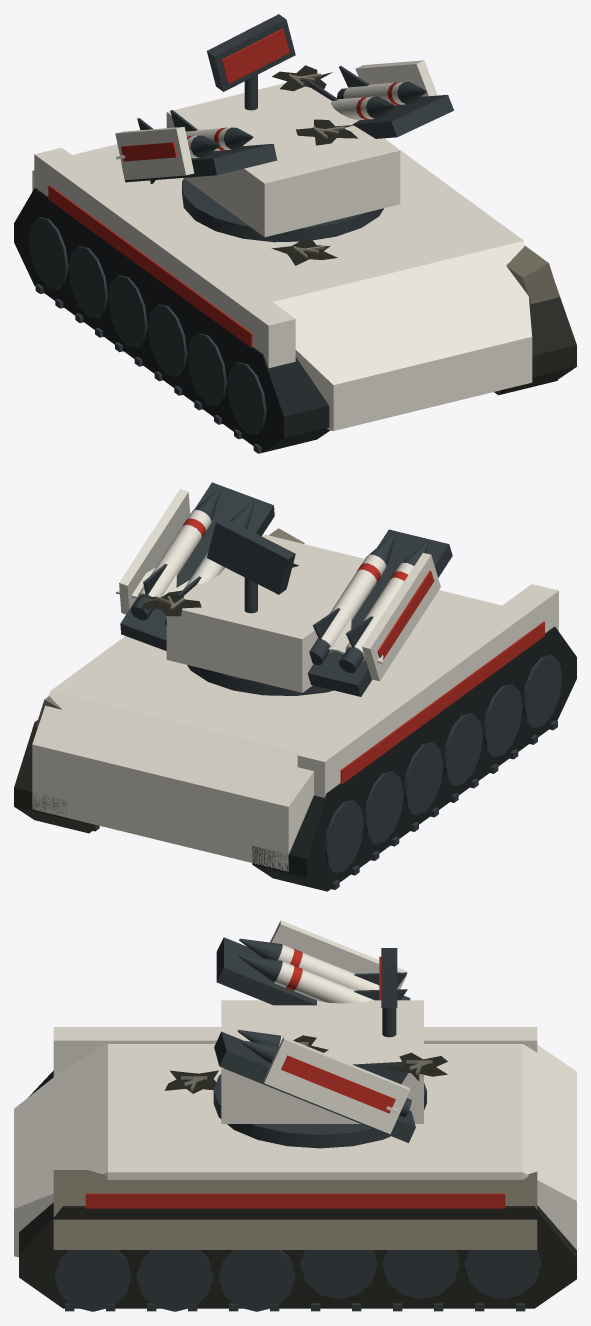
The picture shows the model from 3 angles, top to bottom: view 1: azimuth 30°, elevation 25°; view 2: azimuth 150°, elevation 25°; view 3: azimuth 270°, elevation 25°; orthographic projection. The views are drawn at different scales.
Parts seen in each view (by area): view 1: aa-tank-damaged-fleet-armor, turret-fleet-armor, aa-tank-damaged-fleet-machine, aa-tank-damaged-fleet-rubber, aa-tank-damaged-fleet-damage-charred, aa-tank-damaged-fleet-red, launcher-left-fleet-armor, aa-tank-damaged-fleet-damage-metal, launcher-right-fleet-machine, radar-fleet-machine, launcher-left-fleet-machine, radar-fleet-red (+8 smaller); view 2: aa-tank-damaged-fleet-armor, turret-fleet-armor, aa-tank-damaged-fleet-machine, aa-tank-damaged-fleet-rubber, launcher-left-fleet-machine, launcher-right-fleet-machine, radar-fleet-machine, aa-tank-damaged-fleet-red, launcher-left-fleet-armor, aa-tank-damaged-fleet-damage-charred, launcher-right-fleet-armor, loaded-missile-1-0.2-fleet-armor (+8 smaller); view 3: aa-tank-damaged-fleet-armor, aa-tank-damaged-fleet-machine, aa-tank-damaged-fleet-damage-metal, aa-tank-damaged-fleet-damage-charred, turret-fleet-armor, aa-tank-damaged-fleet-red, launcher-right-fleet-armor, launcher-left-fleet-machine, launcher-left-fleet-armor, launcher-right-fleet-machine, launcher-right-fleet-red, loaded-missile--1-0.2-fleet-armor (+6 smaller).
Part boxes in pixels (x1=…): aa-tank-damaged-fleet-armor: x1=32, y1=138, x2=532, y2=430; turret-fleet-armor: x1=166, y1=83, x2=400, y2=237; aa-tank-damaged-fleet-machine: x1=28, y1=178, x2=557, y2=453; aa-tank-damaged-fleet-rubber: x1=14, y1=188, x2=330, y2=452; aa-tank-damaged-fleet-damage-charred: x1=271, y1=65, x2=576, y2=394; aa-tank-damaged-fleet-red: x1=48, y1=185, x2=252, y2=347; launcher-left-fleet-armor: x1=115, y1=126, x2=194, y2=180; aa-tank-damaged-fleet-damage-metal: x1=289, y1=73, x2=559, y2=303; launcher-right-fleet-machine: x1=352, y1=94, x2=453, y2=138; radar-fleet-machine: x1=207, y1=14, x2=295, y2=91; launcher-left-fleet-machine: x1=122, y1=143, x2=277, y2=182; radar-fleet-red: x1=221, y1=28, x2=289, y2=83; aa-tank-damaged-fleet-armor: x1=32, y1=584, x2=558, y2=871; turret-fleet-armor: x1=166, y1=534, x2=364, y2=692; aa-tank-damaged-fleet-machine: x1=93, y1=655, x2=562, y2=889; aa-tank-damaged-fleet-rubber: x1=252, y1=626, x2=576, y2=891; launcher-left-fleet-machine: x1=307, y1=529, x2=452, y2=696; launcher-right-fleet-machine: x1=120, y1=482, x2=274, y2=650; radar-fleet-machine: x1=207, y1=517, x2=295, y2=594; aa-tank-damaged-fleet-red: x1=340, y1=621, x2=544, y2=783; launcher-left-fleet-armor: x1=362, y1=553, x2=440, y2=681; aa-tank-damaged-fleet-damage-charred: x1=14, y1=563, x2=298, y2=833; launcher-right-fleet-armor: x1=119, y1=488, x2=190, y2=614; loaded-missile-1-0.2-fleet-armor: x1=116, y1=510, x2=211, y2=600; aa-tank-damaged-fleet-armor: x1=14, y1=1027, x2=576, y2=1257; aa-tank-damaged-fleet-machine: x1=54, y1=1074, x2=541, y2=1311; aa-tank-damaged-fleet-damage-metal: x1=53, y1=1042, x2=537, y2=1249; aa-tank-damaged-fleet-damage-charred: x1=19, y1=1035, x2=576, y2=1308; turret-fleet-armor: x1=221, y1=1000, x2=423, y2=1123; aa-tank-damaged-fleet-red: x1=85, y1=1193, x2=505, y2=1208; launcher-right-fleet-armor: x1=263, y1=1037, x2=410, y2=1134; launcher-left-fleet-machine: x1=216, y1=937, x2=316, y2=1005; launcher-left-fleet-armor: x1=270, y1=920, x2=406, y2=989; launcher-right-fleet-machine: x1=214, y1=1031, x2=415, y2=1143; launcher-right-fleet-red: x1=281, y1=1055, x2=395, y2=1113; loaded-missile--1-0.2-fleet-armor: x1=274, y1=961, x2=373, y2=1003.
Size of the model in its own units: 21.7 by 19.02 by 33.68.
